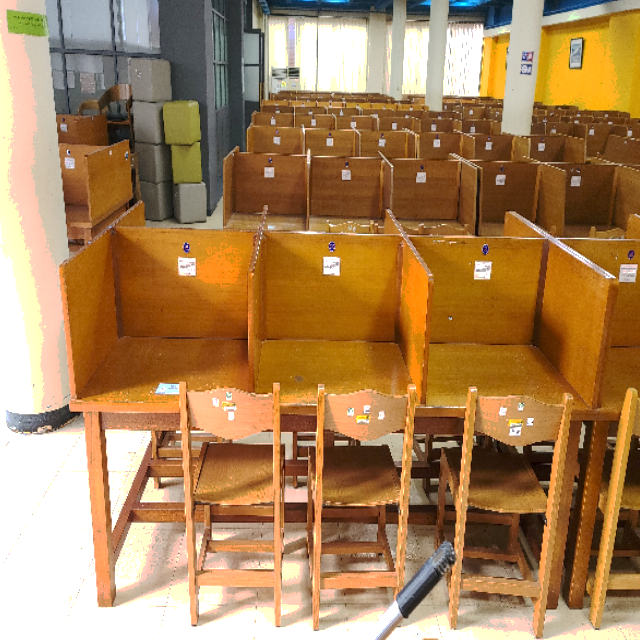empty: (67, 237, 259, 515), (432, 242, 595, 508), (265, 245, 425, 501)
